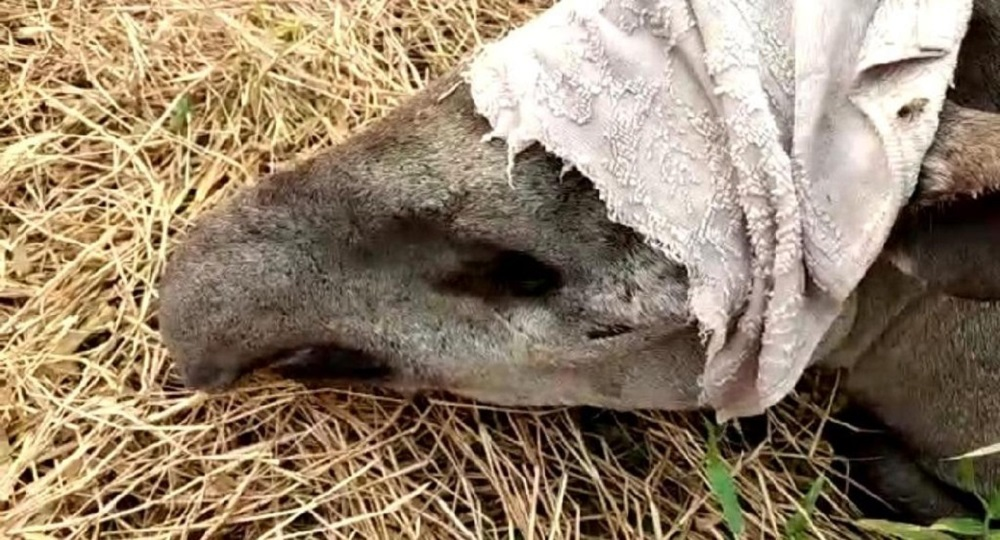Anta: (140, 21, 970, 457)
